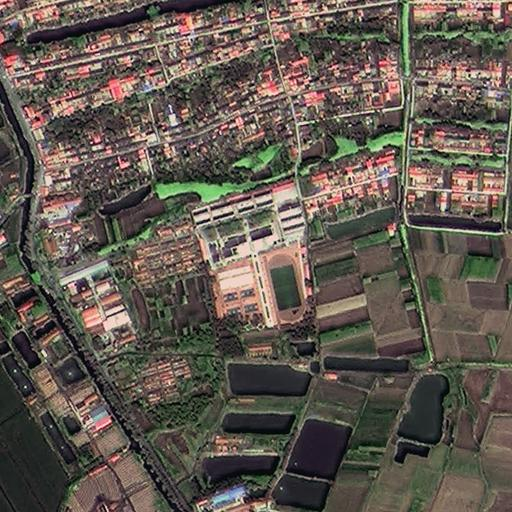school: (188, 177, 311, 328)
